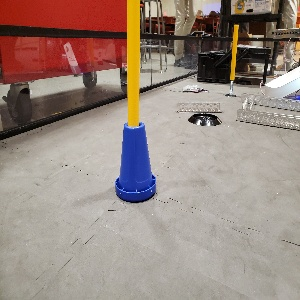Blue_1: (115, 121, 156, 202)
